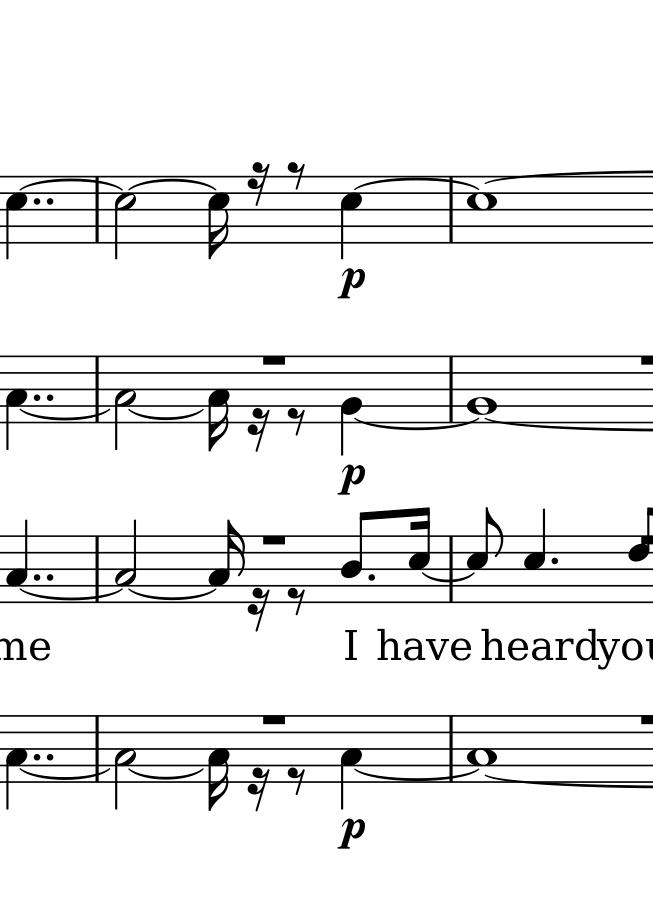16_3: (208, 518, 246, 605), (205, 354, 234, 455), (205, 712, 230, 813)
16_5: (406, 503, 432, 607), (206, 173, 232, 261)
1_2: (464, 352, 500, 425)
1_3: (464, 712, 498, 786)
1_5: (467, 174, 499, 245)
2_3: (111, 515, 140, 607), (113, 713, 138, 815), (112, 353, 136, 452)
2_5: (113, 174, 140, 261)
4_2: (338, 352, 363, 457)
4_3: (338, 711, 365, 810), (4, 712, 30, 811), (4, 353, 29, 452), (5, 519, 28, 605)
4_5: (519, 505, 548, 605), (339, 171, 366, 263), (4, 173, 30, 261)
8_4: (339, 510, 373, 606)
8_5: (465, 507, 506, 605)
Double_barline: (31, 195, 56, 208), (32, 569, 53, 583), (32, 750, 54, 763), (31, 392, 56, 402)
Rests1: (256, 707, 291, 731), (256, 351, 291, 368), (258, 530, 291, 547)
Rests16: (245, 582, 273, 635), (244, 765, 273, 811), (244, 161, 272, 208), (247, 407, 273, 452)
Rests8: (284, 157, 307, 194), (283, 408, 312, 435), (284, 586, 308, 615), (285, 764, 309, 793)
Single_barline: (88, 714, 106, 782), (442, 714, 460, 782), (88, 356, 106, 423), (90, 177, 107, 243), (89, 536, 105, 603), (443, 355, 459, 422), (444, 177, 460, 243), (444, 538, 459, 601)
Slur: (350, 416, 480, 433), (350, 177, 479, 192), (354, 769, 477, 781), (18, 179, 124, 192), (127, 178, 219, 192), (16, 410, 114, 423), (18, 589, 124, 601), (128, 587, 219, 600), (127, 768, 205, 781), (128, 408, 204, 421), (18, 769, 111, 779), (419, 571, 478, 584)
dot: (547, 553, 561, 568), (365, 572, 377, 584)
p: (337, 815, 369, 856), (336, 462, 368, 499), (338, 263, 365, 299)
